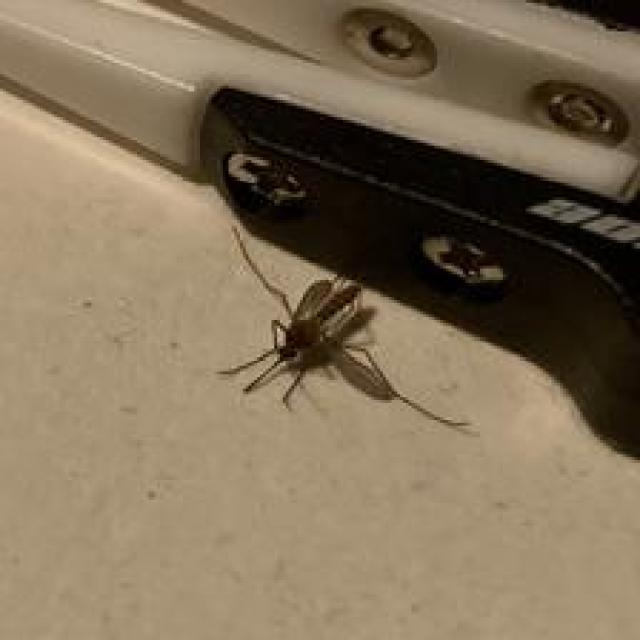Culex: (214, 223, 477, 434)
